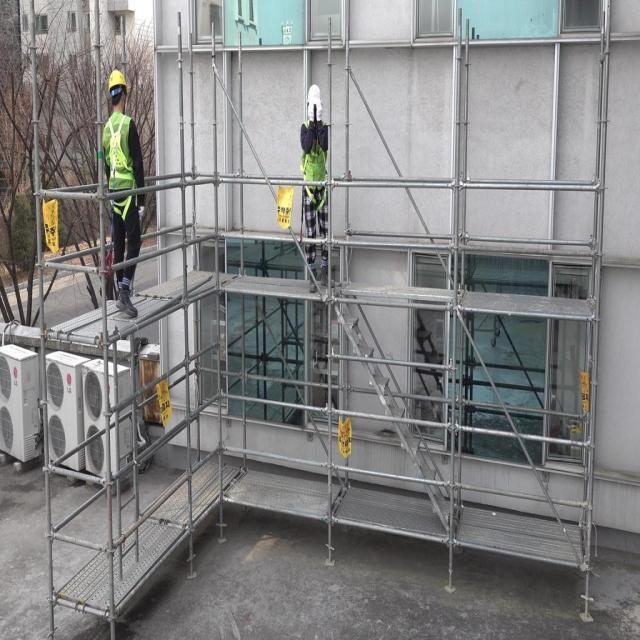Arnes_seguridad: (102, 111, 138, 220), (299, 120, 327, 210)
